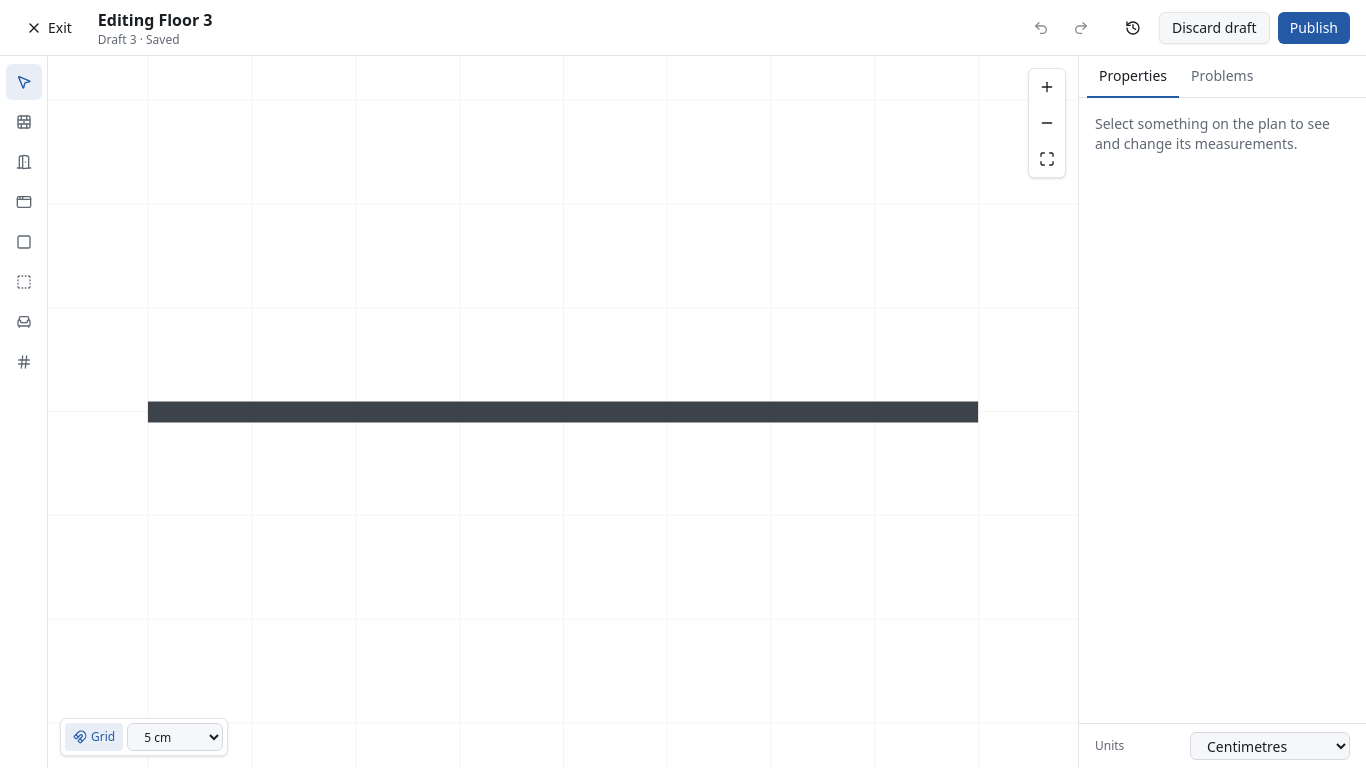
publishing, discarding and history (docs/0082, docs/0089) › History lists the versions; Restore waits for the draft to go
The image size is (1366, 768).
Expected: the text "Draft 3 · Saved" is shown, [98, 30, 180, 48]
Click the button named "Version history": (1133, 28) [1115, 10, 1151, 46]
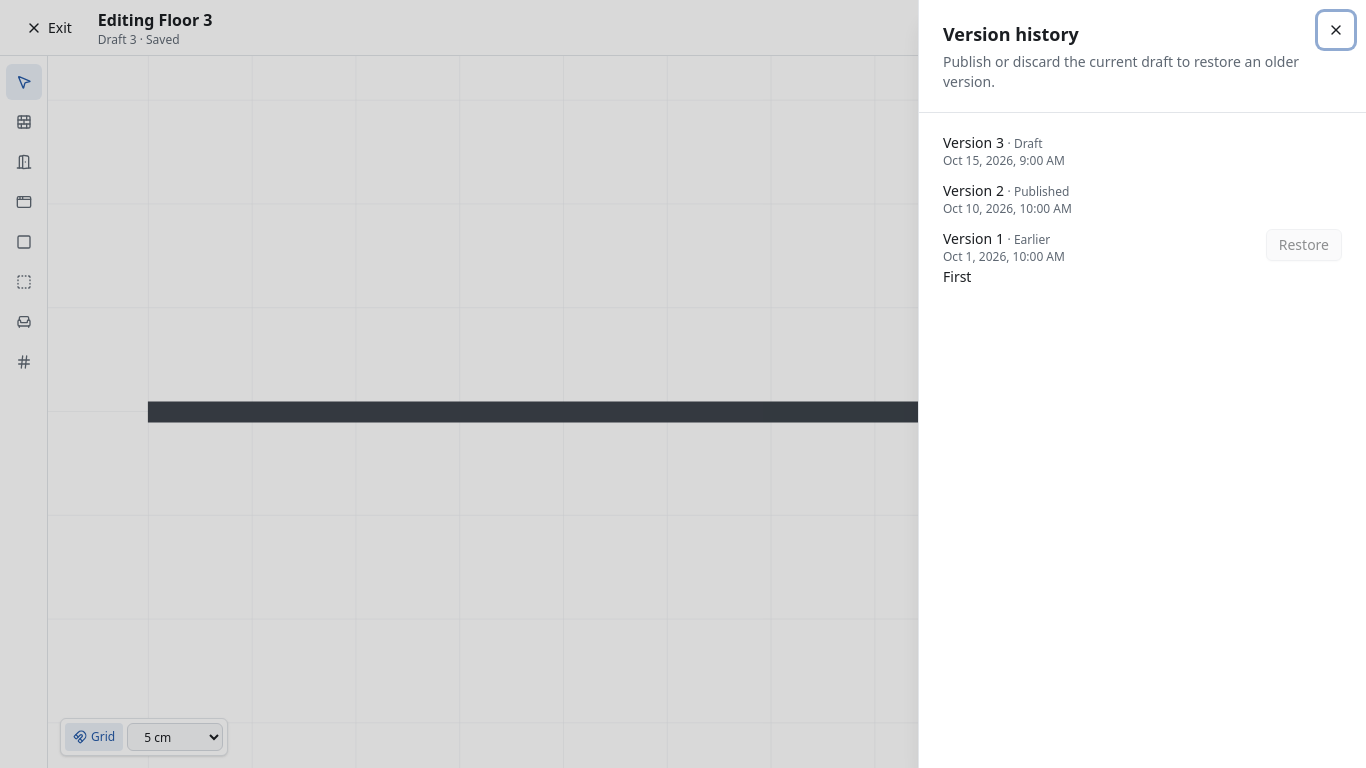
Now the button "Restore" is disabled, box [1266, 229, 1342, 261]
Now the text "Publish or discard the current draft" is shown, box [943, 52, 1299, 91]
